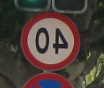Speed limit: (17, 8, 82, 71)
